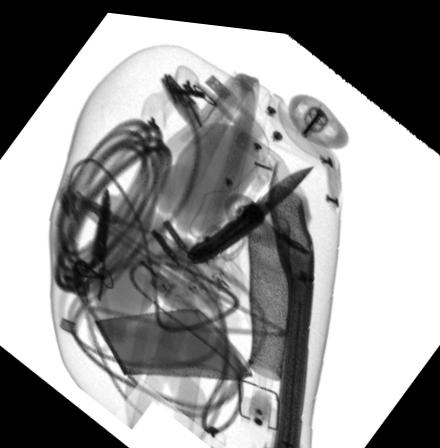Knife: (187, 159, 314, 257)
Scissors: (56, 184, 113, 336)
